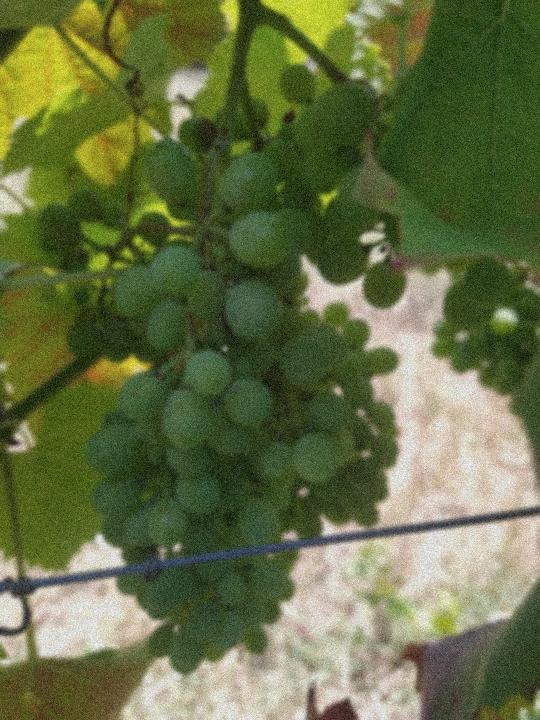grape: (29, 60, 417, 680)
